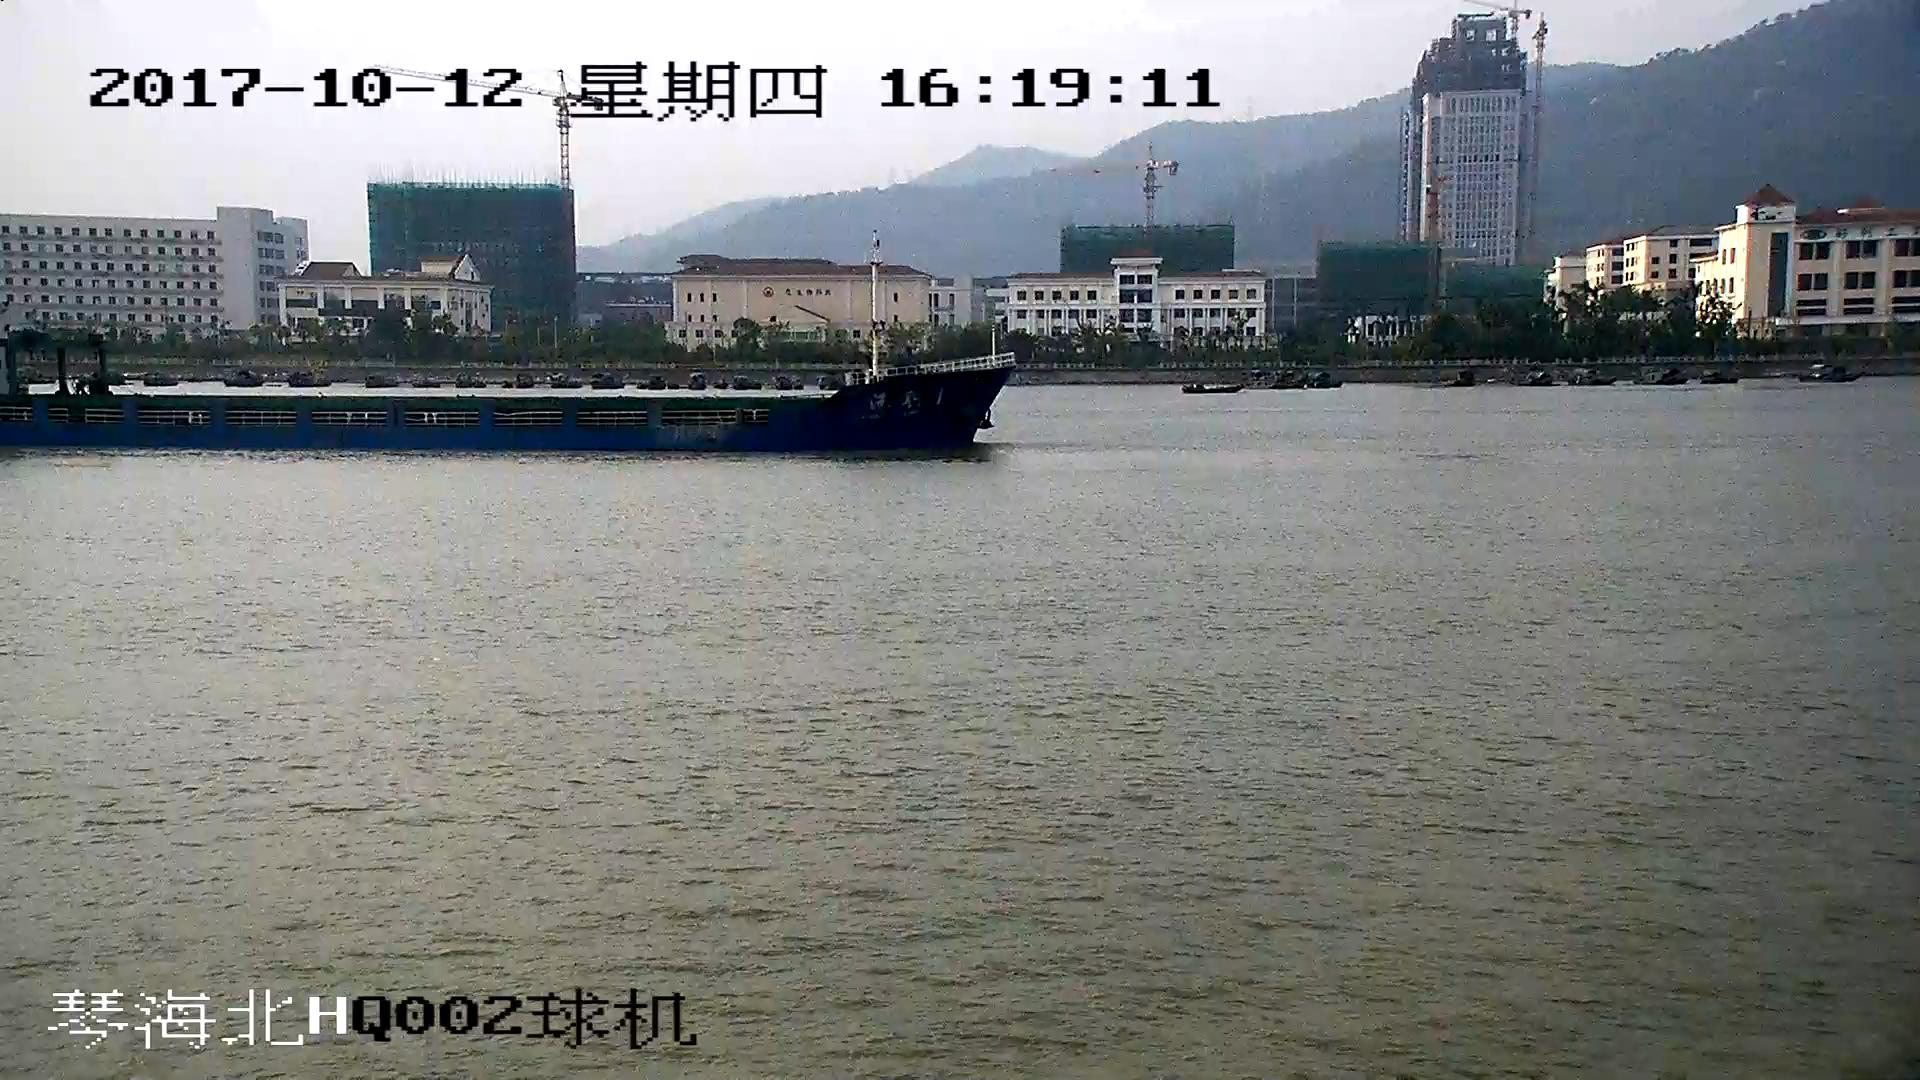general cargo ship: (1, 236, 1011, 451)
